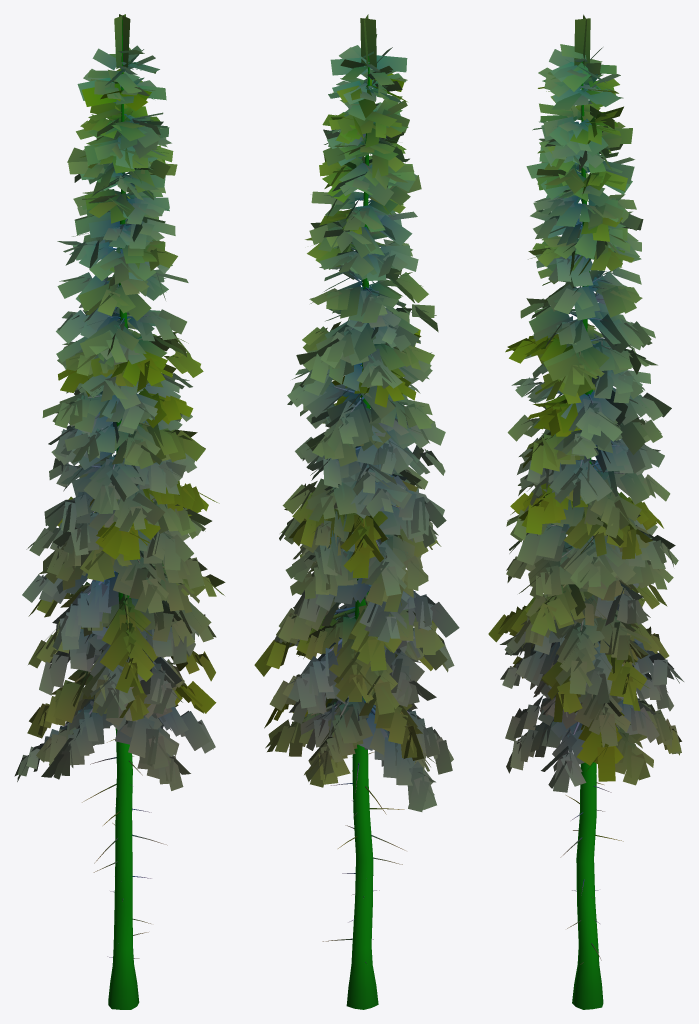
Rendered from spruce_a.glb.
The picture shows the model from 3 angles, left to right: view 1: azimuth 30°, elevation 25°; view 2: azimuth 150°, elevation 25°; view 3: azimuth 270°, elevation 25°; orthographic projection.
Visible parts, largest first — view 1: LOD0; view 2: LOD0; view 3: LOD0.
Boxes of the visible parts, <box> form: LOD0: <box>14,14,225,1009</box>; LOD0: <box>254,14,459,1009</box>; LOD0: <box>488,14,683,1009</box>.
Size of what is drawn, in the model's own units: 5.51 by 28.47 by 5.16.
